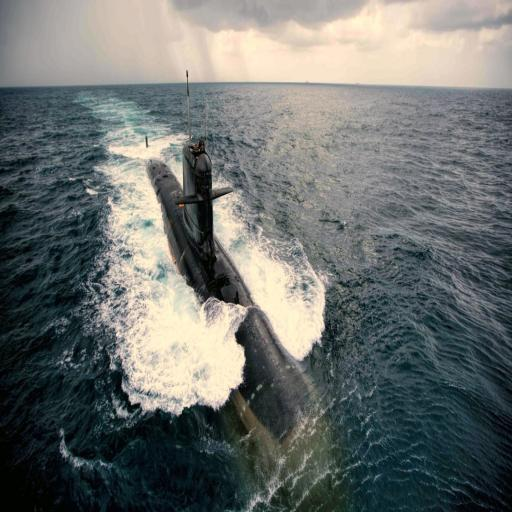submarine: (139, 61, 333, 452)
